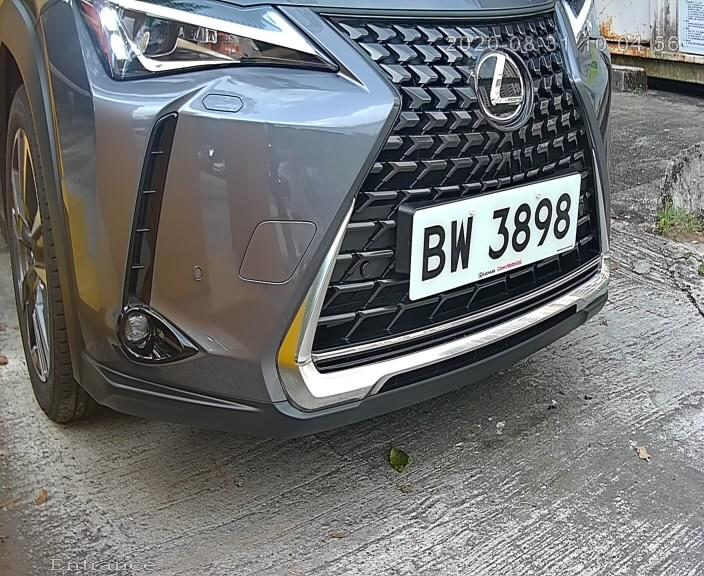Car: (41, 1, 664, 474)
License Plate: (406, 175, 576, 304)
